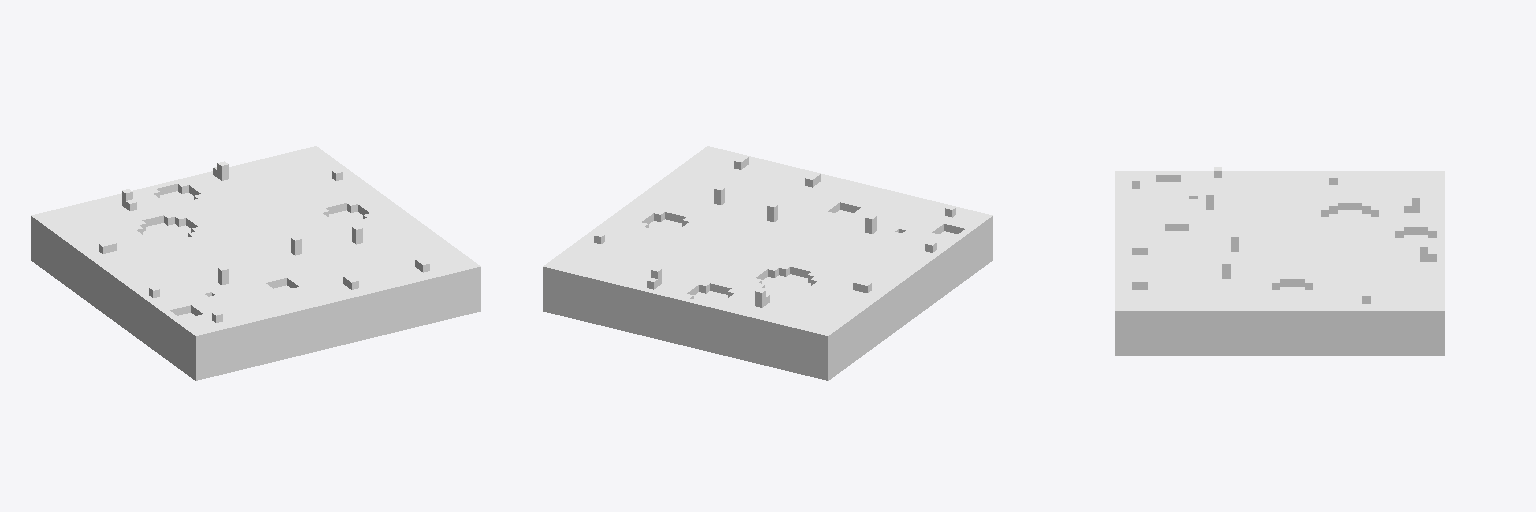
File: SurfaceTile1.obj
The picture shows the model from 3 angles: view 1: azimuth 30°, elevation 25°; view 2: azimuth 150°, elevation 25°; view 3: azimuth 270°, elevation 25°; orthographic projection.
Parts seen in each view (by area): view 1: object 1; view 2: object 1; view 3: object 1.
Part boxes in pixels (bbox=[...]): object 1: bbox=[31, 146, 480, 380]; object 1: bbox=[543, 146, 992, 380]; object 1: bbox=[1115, 167, 1444, 355].
Bounding box in the file's own units: 4 × 0.8 × 4.